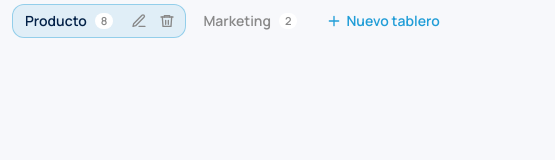
Scenario: BoardTabs › ignores empty names and can cancel
The width and height of the screenshot is (555, 160).
Click the button "Nuevo tablero".
click(383, 21)  # box 314,5 -> 452,37
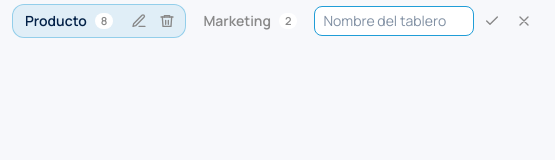
Click the button named "Guardar tablero".
click(492, 21)  # box 478,7 -> 506,35
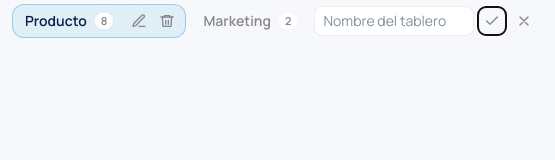
Click the button named "Cancelar".
click(524, 21)  # box 510,7 -> 538,35
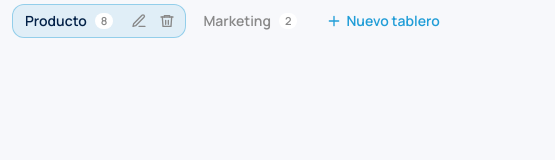
Expected: the button "Nuevo tablero" is shown, 314,5 -> 452,37
